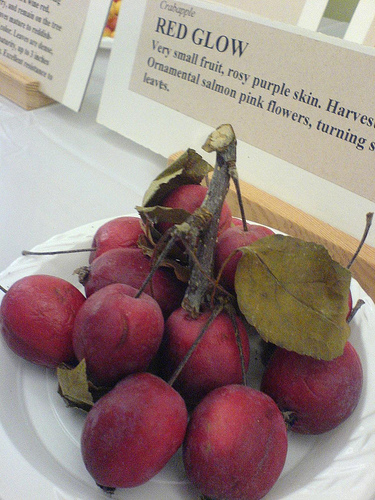apple: (87, 377, 182, 495), (76, 282, 168, 376)
